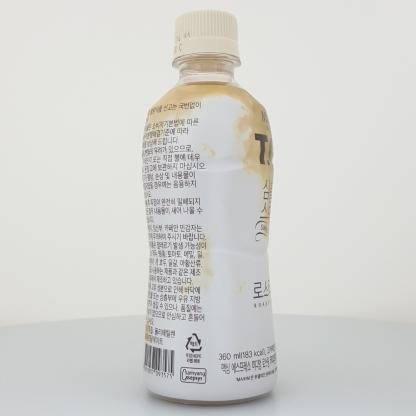--------TOP-----------: (141, 10, 278, 406)
